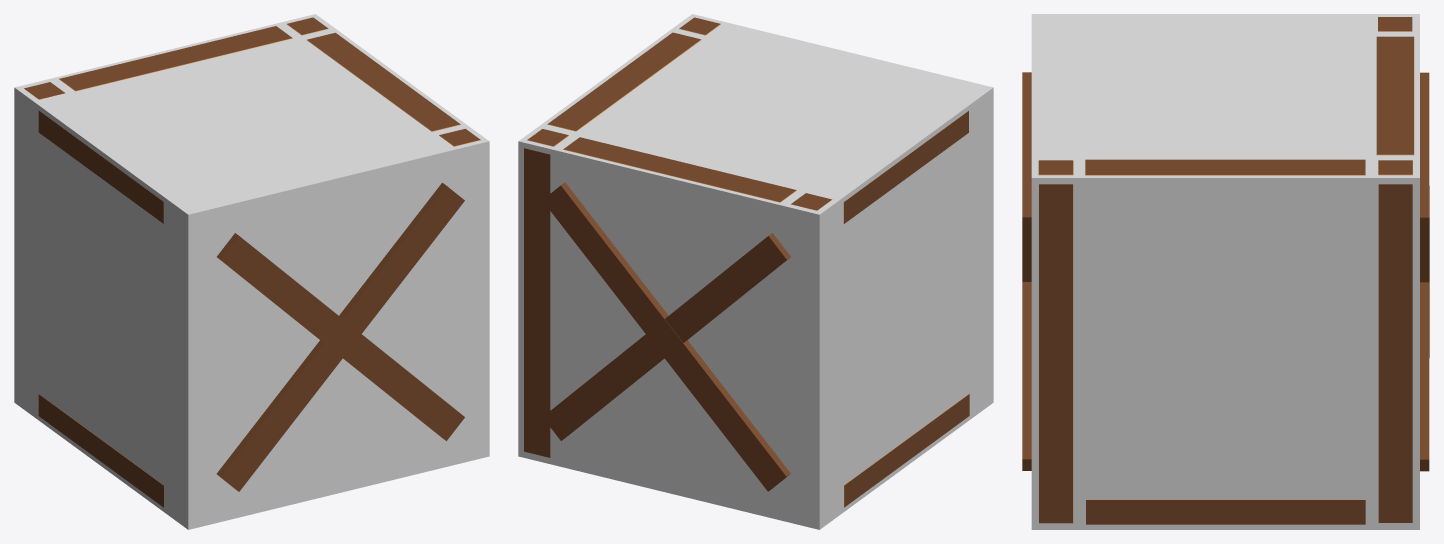
Rendered from prop_crate_c.glb.
3 views of the same model, side by side, from view 1: azimuth 30°, elevation 25°; view 2: azimuth 150°, elevation 25°; view 3: azimuth 270°, elevation 25° (orthographic). The views are drawn at different scales.
Visible parts, largest first — view 1: COL_prop_crate_c_1, prop_crate_c; view 2: COL_prop_crate_c_1, prop_crate_c; view 3: COL_prop_crate_c_1, prop_crate_c.
Boxes of the visible parts, x1,y1,x2,y2 form: COL_prop_crate_c_1: [14, 14, 489, 529]; prop_crate_c: [24, 17, 480, 507]; COL_prop_crate_c_1: [518, 14, 993, 529]; prop_crate_c: [524, 17, 969, 507]; COL_prop_crate_c_1: [1031, 14, 1419, 529]; prop_crate_c: [1022, 17, 1429, 524].
Size of the model in its own units: 1.2 by 1.2 by 1.26.
